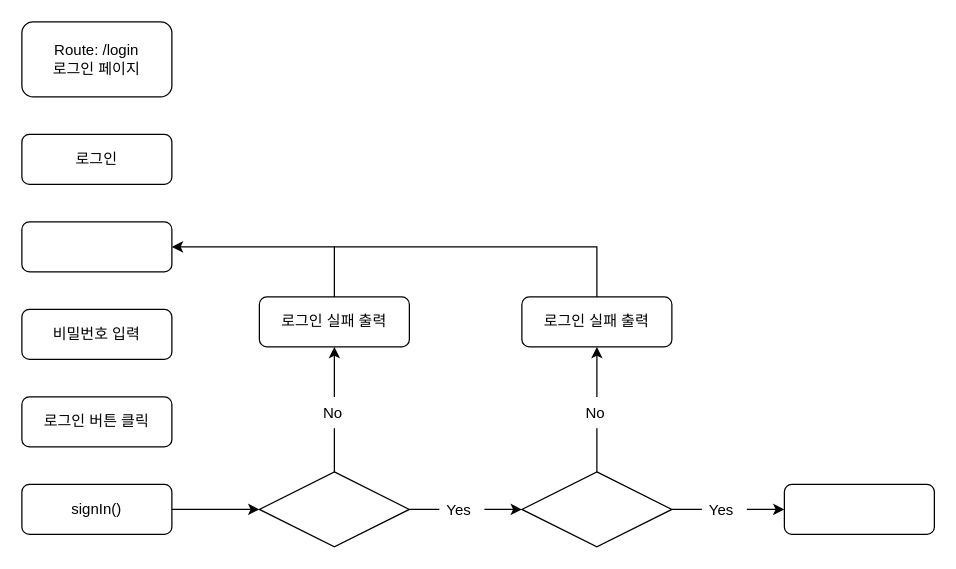
Some shapes in this 956 by 569 pixel diagram are drawn without their labels. Here are the shapes that lost their labels. From the top down, the centre of each, then its label:
point (96, 246): 이메일 입력
point (333, 509): 이메일 형식인가?
point (596, 509): 비밀번호 형식인가?
point (858, 508): 로그인 성공 출력
